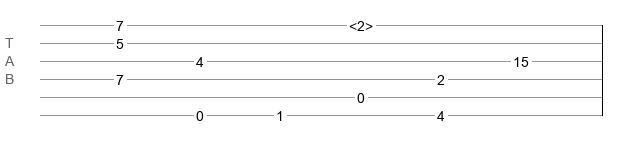0: (196, 108, 204, 118), (357, 90, 365, 100)
1: (276, 108, 284, 118)
15: (513, 54, 529, 64)
2: (437, 72, 445, 82)
4: (196, 54, 204, 64), (437, 108, 445, 118)
5: (116, 36, 124, 46)
7: (116, 72, 124, 82), (116, 18, 124, 28)
harmonic: (349, 18, 373, 28)
